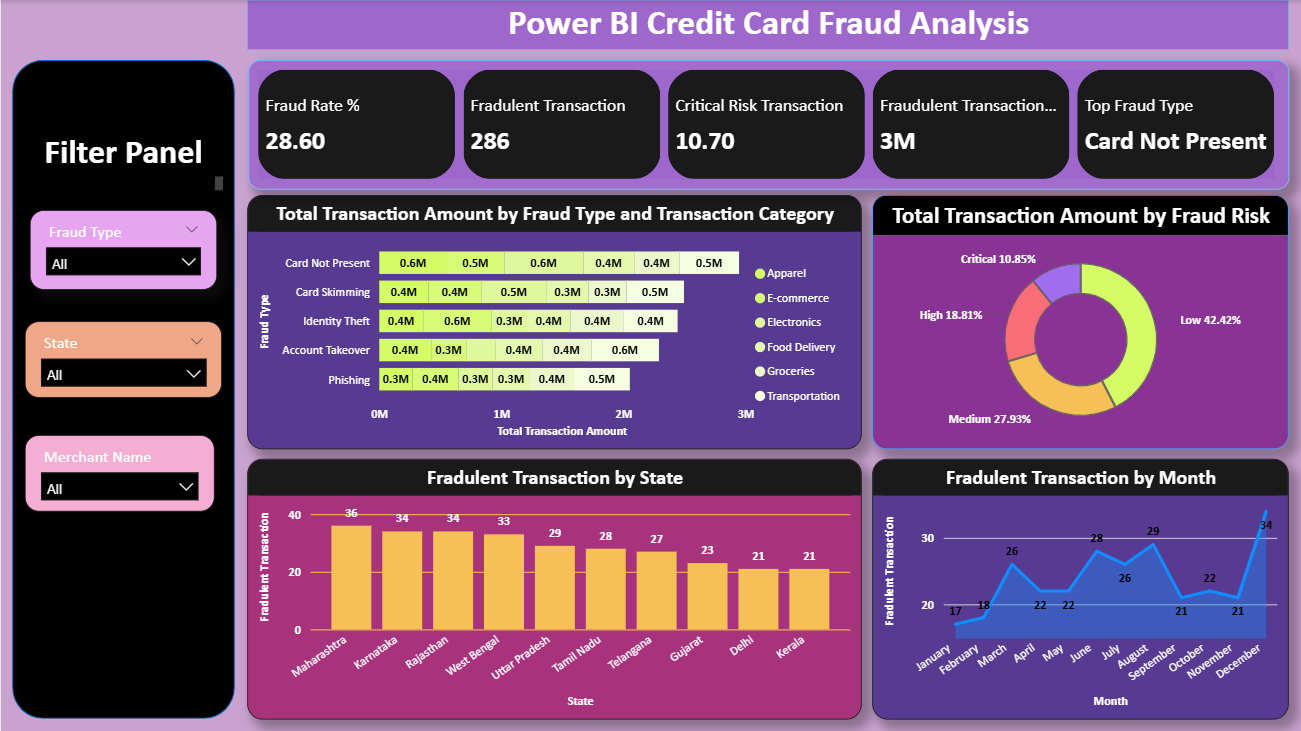

The page's visual inventory and layout, read from the dashboard file:
{"tool":"powerbi","page":{"name":"Page 1","canvas":[1280,720],"ordinal":0},"visuals":[{"type":"textbox","title":"Power BI Credit Card Fraud Analysis","box":[241.7,0,1022.1,49.1],"z":0},{"type":"image","box":[150.9,133.7,61.4,44.2],"z":1000},{"type":"barChart","fields":{"Y":["Credit Card Fraud Risk Analysis.Total Transaction Amount"],"Category":["Credit Card Fraud Risk Analysis.Fraud Type"],"Series":["Credit Card Fraud Risk Analysis.Transaction Category"]},"box":[241.8,191,603,249.3],"z":2000},{"type":"donutChart","fields":{"Y":["Credit Card Fraud Risk Analysis.Total Transaction Amount"],"Category":["Credit Card Fraud Risk Analysis.Fraud Risk"]},"box":[855.2,191,409,249.3],"z":3000},{"type":"columnChart","fields":{"Category":["Credit Card Fraud Risk Analysis.State"],"Y":["Credit Card Fraud Risk Analysis.Fradulent Transaction","select"]},"box":[241.4,450,602.9,255.7],"z":4000},{"type":"lineChart","fields":{"Y":["Credit Card Fraud Risk Analysis.Fradulent Transaction"],"Category":["Credit Card Fraud Risk Analysis.Transaction Date.Variation.Date Hierarchy.Month"]},"box":[855.7,450,408.6,255.7],"z":5000},{"type":"image","box":[11,521.5,166.9,148.5],"z":9000},{"type":"cardVisual","fields":{"Data":["Credit Card Fraud Risk Analysis.Fraud Rate %","Credit Card Fraud Risk Analysis.Fradulent Transaction","Credit Card Fraud Risk Analysis.Critical Risk Transaction","Credit Card Fraud Risk Analysis.Fraudulent Transaction Amount","Credit Card Fraud Risk Analysis.Top Fraud Type"]},"box":[242.9,58.6,1021.4,127.1],"z":10000},{"type":"shape","box":[11,58.9,218.4,646.6],"z":11000},{"type":"slicer","fields":{"Values":["Credit Card Fraud Risk Analysis.Fraud Type"]},"box":[28.2,206.1,184.1,78.5],"z":11001},{"type":"slicer","fields":{"Values":["Credit Card Fraud Risk Analysis.State"]},"box":[23.3,315.3,193.9,74.8],"z":11002},{"type":"slicer","fields":{"Values":["Credit Card Fraud Risk Analysis.Merchant Name"]},"box":[23.3,427,186.5,74.8],"z":11003},{"type":"textbox","title":"Filter Panel","box":[17.2,127.6,206.1,63.8],"z":11004}]}

Visuals, with their boxes in screenshot pixels (x1, y1, x2, y2), scaled from the page's 1280x720 canvas onto the 1301x731 screenshot:
"Power BI Credit Card Fraud Analysis" textbox: 246, 0, 1285, 50
image: 153, 136, 216, 181
barChart - Credit Card Fraud Risk Analysis.Total Transaction Amount x Credit Card Fraud Risk Analysis.Fraud Type: 246, 194, 859, 447
donutChart - Credit Card Fraud Risk Analysis.Total Transaction Amount x Credit Card Fraud Risk Analysis.Fraud Risk: 869, 194, 1285, 447
columnChart - Credit Card Fraud Risk Analysis.State x Credit Card Fraud Risk Analysis.Fradulent Transaction: 245, 457, 858, 716
lineChart - Credit Card Fraud Risk Analysis.Fradulent Transaction x Credit Card Fraud Risk Analysis.Transaction Date.Variation.Date Hierarchy.Month: 870, 457, 1285, 716
image: 11, 529, 181, 680
cardVisual - Credit Card Fraud Risk Analysis.Fraud Rate % x Credit Card Fraud Risk Analysis.Fradulent Transaction: 247, 59, 1285, 189
shape: 11, 60, 233, 716
slicer - Credit Card Fraud Risk Analysis.Fraud Type: 29, 209, 216, 289
slicer - Credit Card Fraud Risk Analysis.State: 24, 320, 221, 396
slicer - Credit Card Fraud Risk Analysis.Merchant Name: 24, 434, 213, 509
"Filter Panel" textbox: 17, 130, 227, 194
